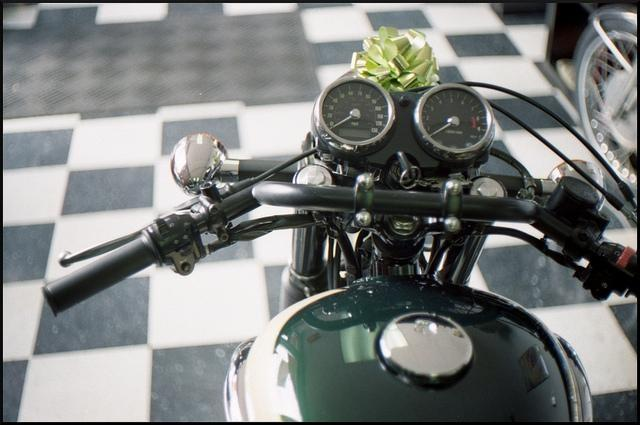bicycle: (573, 7, 640, 223)
motorcycle: (40, 21, 639, 422), (571, 4, 639, 192)
